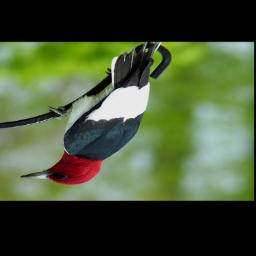Woodpecker: (17, 42, 166, 186)
